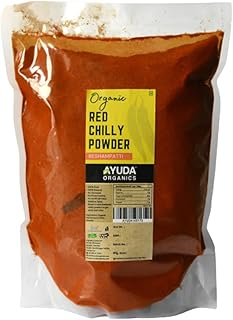Chilli Powder: (6, 5, 233, 320)
